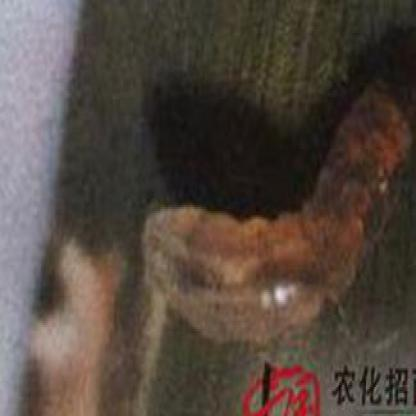whorl-maggot: (142, 80, 414, 350)
